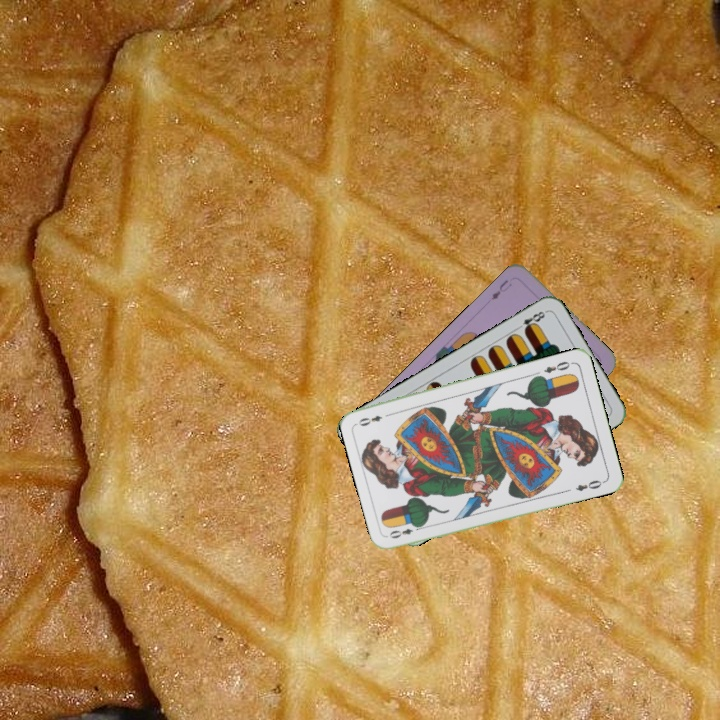E8: (512, 306, 549, 335)
EO: (385, 521, 425, 541), (540, 357, 575, 376)
EU: (487, 275, 514, 303)
